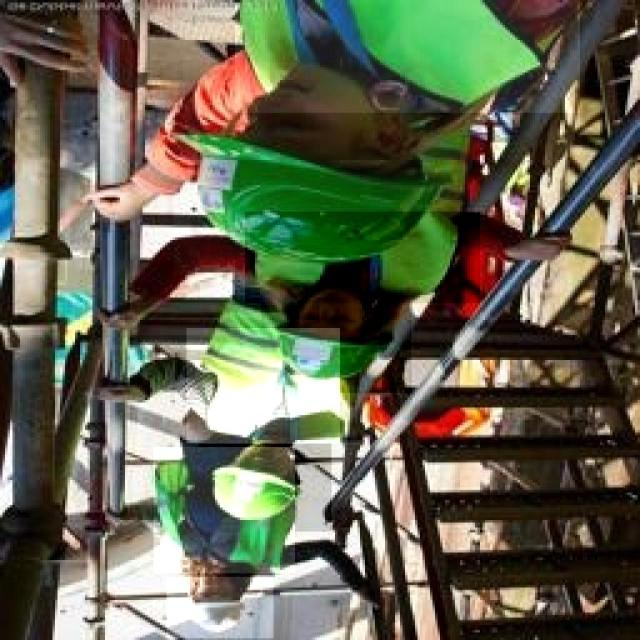Helmet: (174, 82, 470, 274), (262, 300, 412, 393), (198, 432, 332, 532), (166, 577, 274, 638)
Safety Vest: (235, 0, 580, 113), (245, 212, 480, 303), (153, 447, 295, 573), (186, 328, 340, 444)
